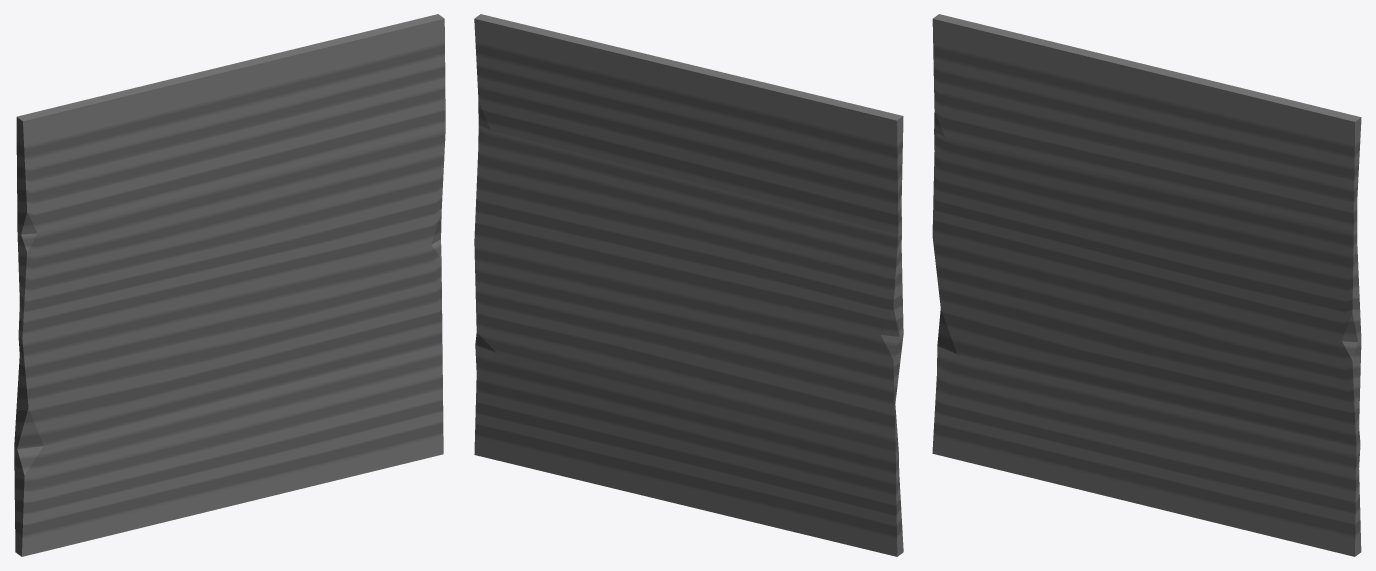
File: SM_Bld_GasStation_GarageDoor_01.glb
3 renders of one model, left to right at view 1: azimuth 30°, elevation 25°; view 2: azimuth 150°, elevation 25°; view 3: azimuth 330°, elevation 25°, orthographic.
Parts seen in each view (by area): view 1: SM_Bld_GasStation_GarageDoor_01; view 2: SM_Bld_GasStation_GarageDoor_01; view 3: SM_Bld_GasStation_GarageDoor_01.
Boxes of the visible parts, x1,y1,x2,y2 form: SM_Bld_GasStation_GarageDoor_01: [14, 14, 445, 556]; SM_Bld_GasStation_GarageDoor_01: [474, 14, 903, 556]; SM_Bld_GasStation_GarageDoor_01: [932, 14, 1361, 556].
Size of the model in its own units: 3.18 by 3.13 by 0.128.
1 material, 1 textured.
